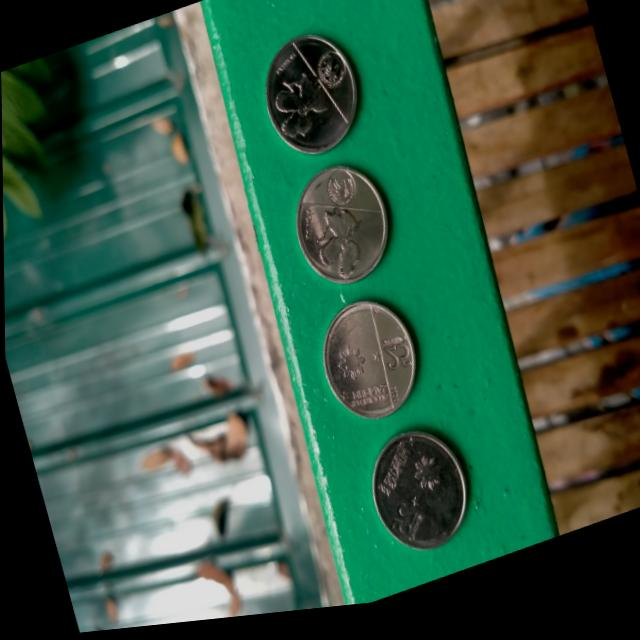25Cent_New_Back: (261, 43, 360, 152)
25Cent_New_Front: (326, 318, 427, 433)
